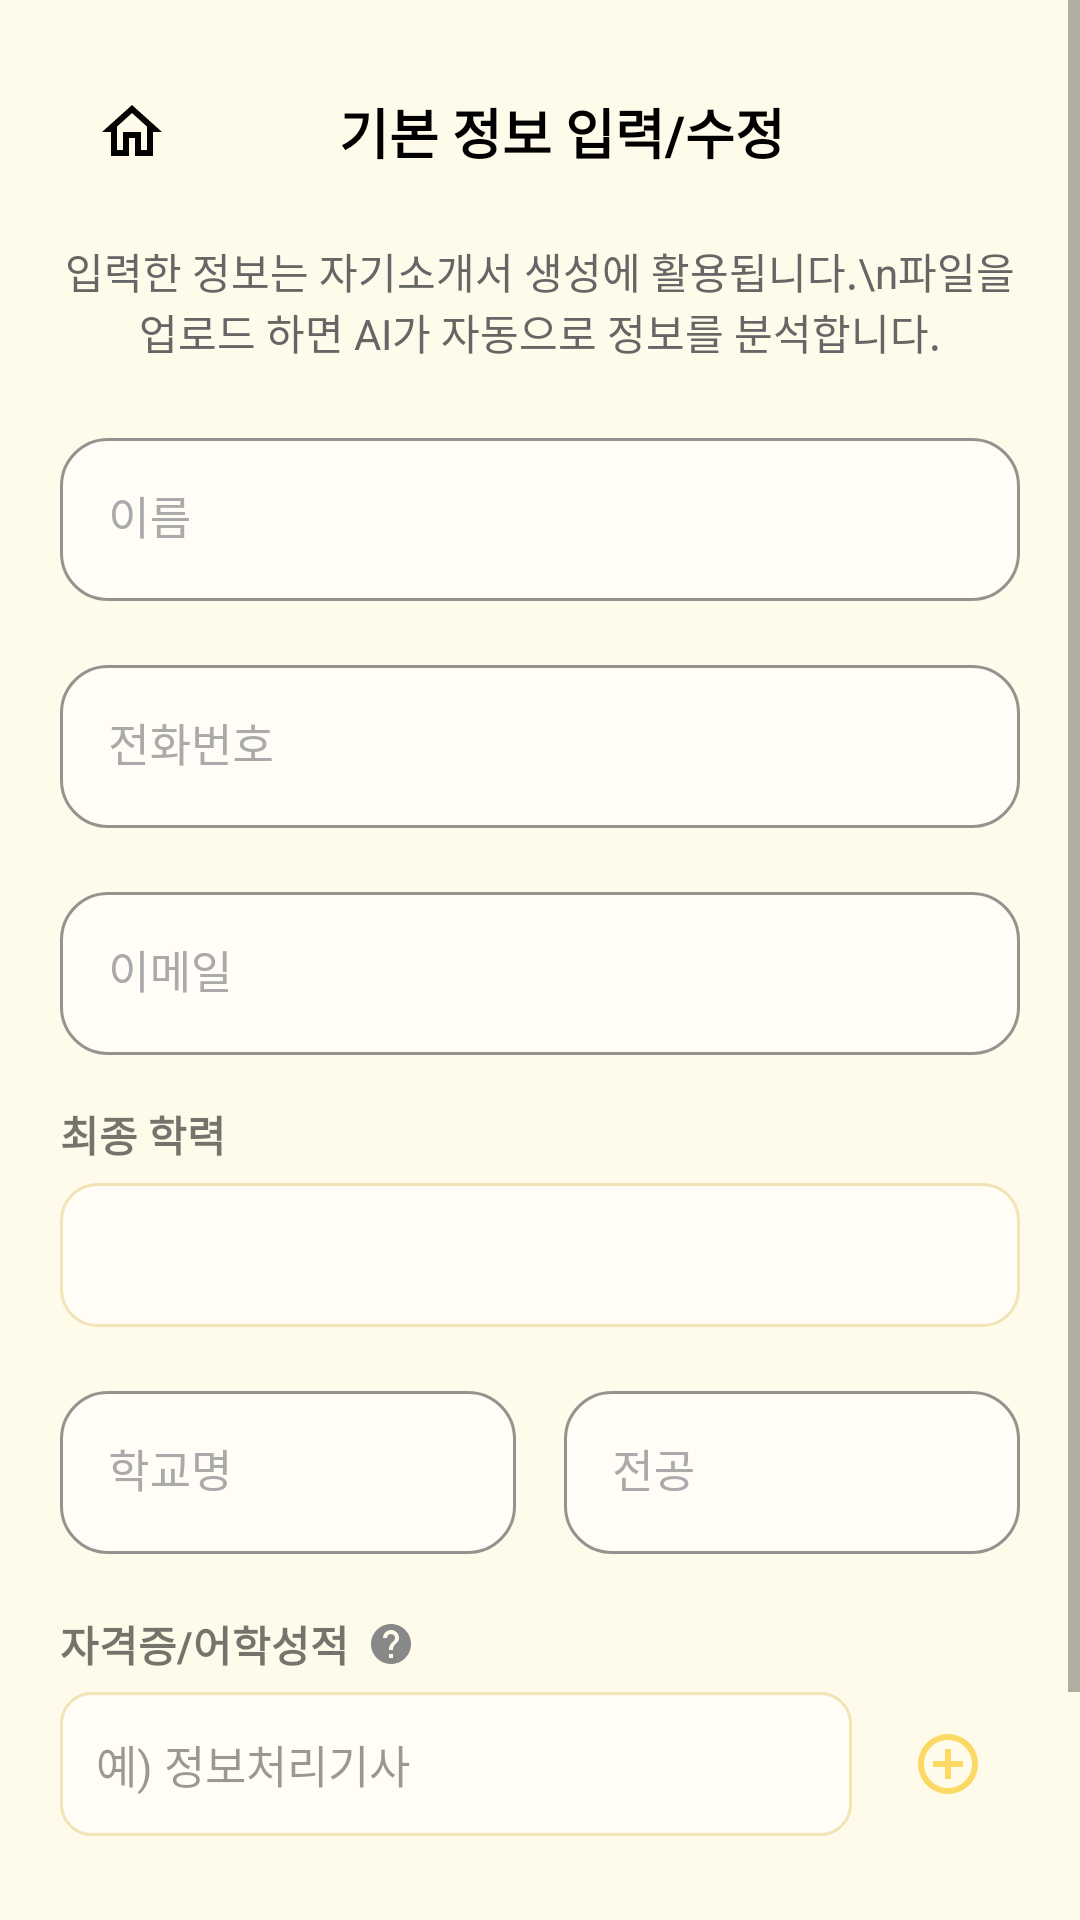

Icons on this 1080px×1920px Android screen, each with its box as Rect(x1, y1, x2, y2):
자격증 도움말: Rect(371, 1624, 411, 1664)
자격증 추가: Rect(918, 1734, 978, 1794)
홈으로 이동: Rect(102, 105, 162, 156)
